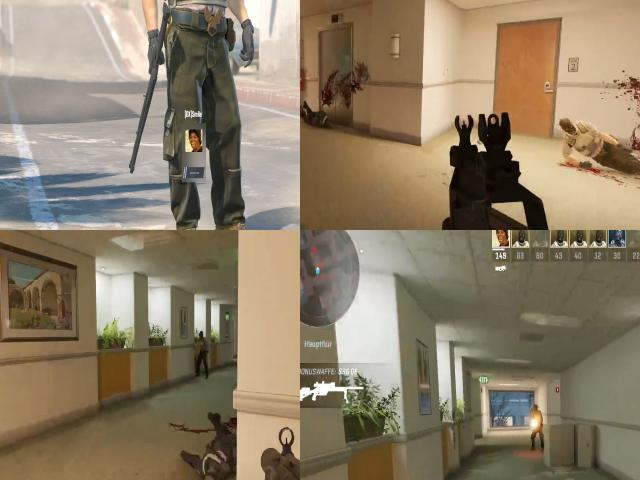Dead: (554, 106, 640, 183), (185, 396, 237, 480), (300, 99, 335, 131)
T: (152, 0, 243, 213), (529, 402, 545, 447), (194, 326, 212, 365)
T-Head: (196, 326, 207, 342), (530, 402, 541, 415)
